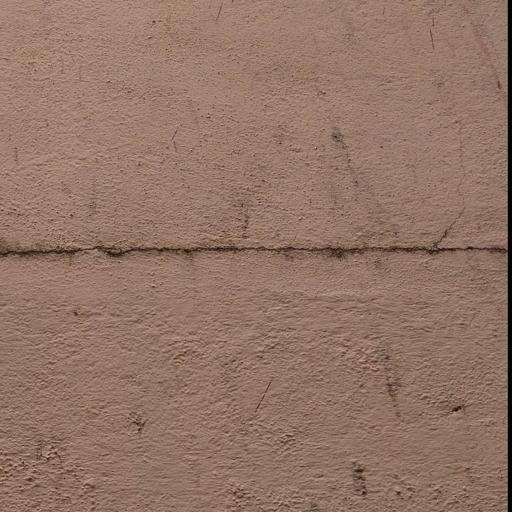minor_crack: (0, 211, 507, 277)
